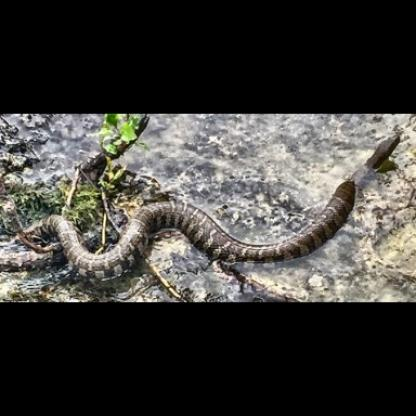Snake: (0, 131, 410, 288)
